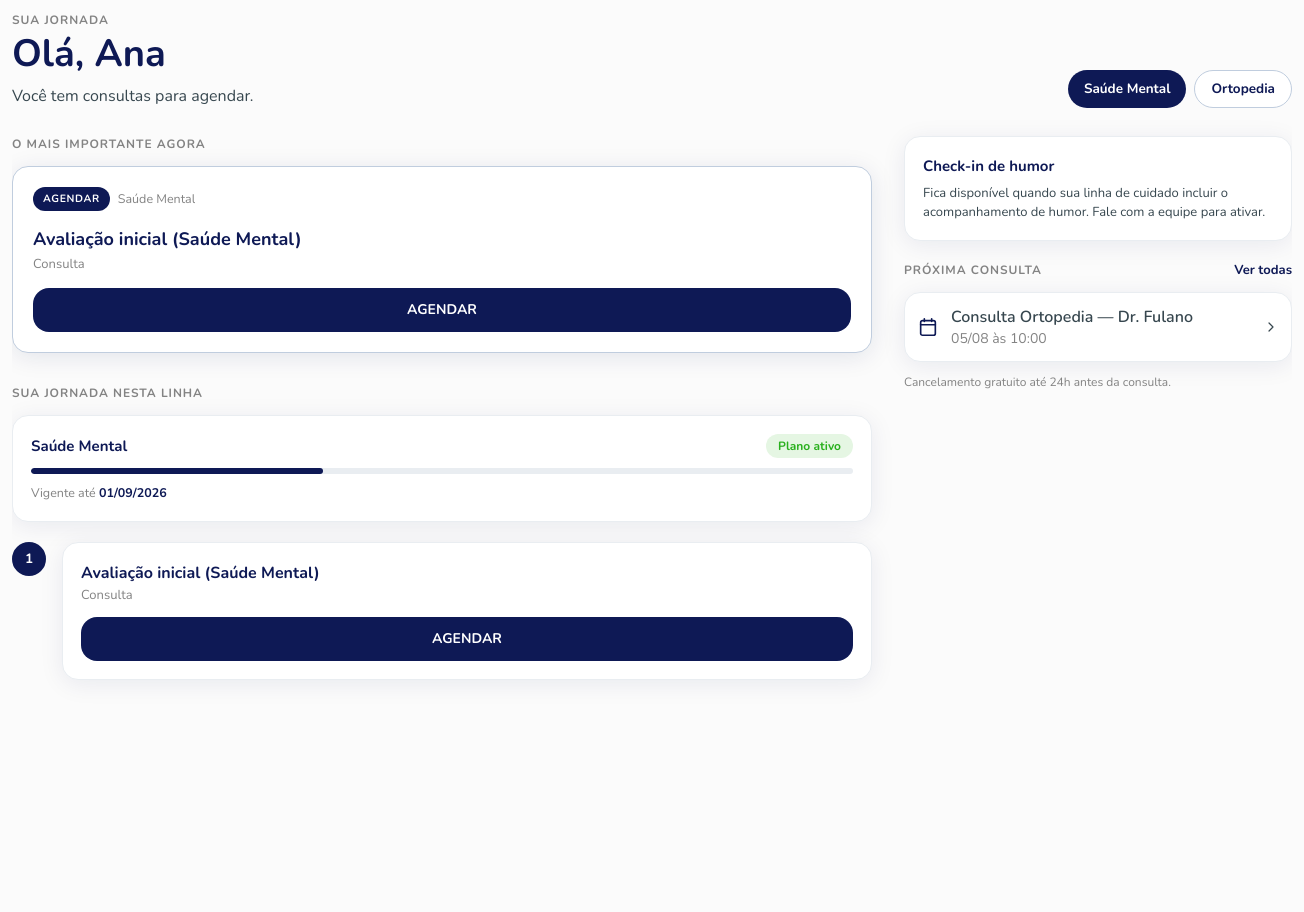
Test case: JourneyPage › MostImportantNow respeita a linha ativa quando a consulta futura é de outra linha
The image size is (1304, 912).
Expected: the text "O mais importante agora" is shown, [12,136,206,152]
Expected: the text "Avaliação inicial (Saúde Mental)" below "O mais importante agora" is shown, [33,227,302,251]
Note: Troca para a linha Ortopedia pelo chip: agora a consulta pertence à linha ativa.
Click the tab "Ortopedia" at (1243, 89), box [1194,70,1292,108]
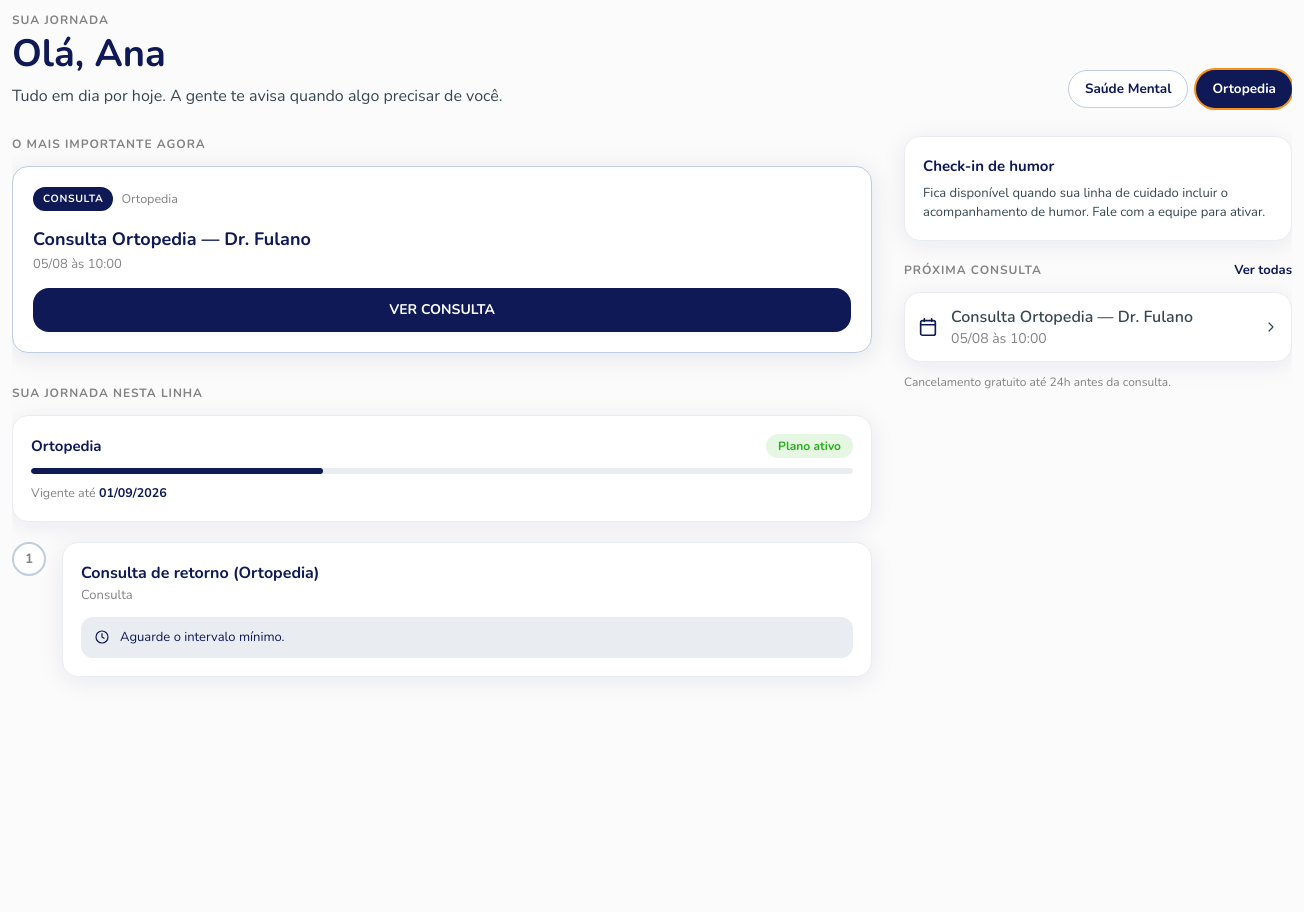
Expected: the text "O mais importante agora" is shown, [12,136,206,152]
Now the text "Consulta Ortopedia — Dr. Fulano" below "O mais importante agora" is shown, box [33,227,311,251]
Now the text "Ortopedia" below "O mais importante agora" is shown, box [122,190,178,206]
